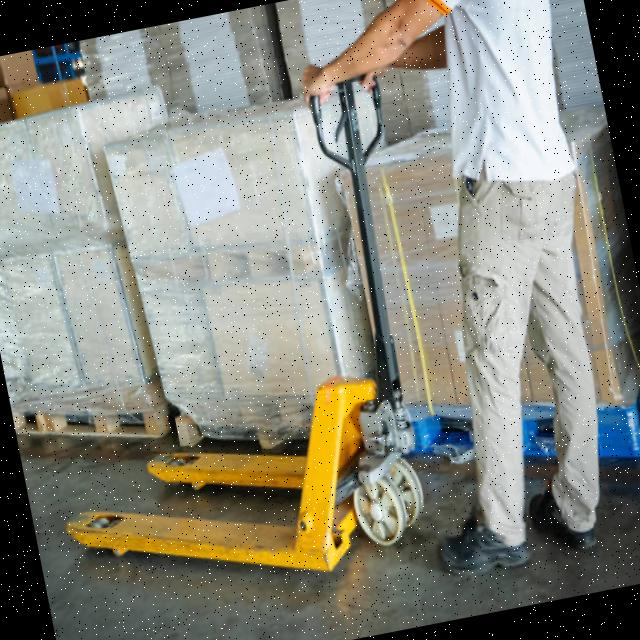Wooden-Pallets: (10, 397, 166, 442)
